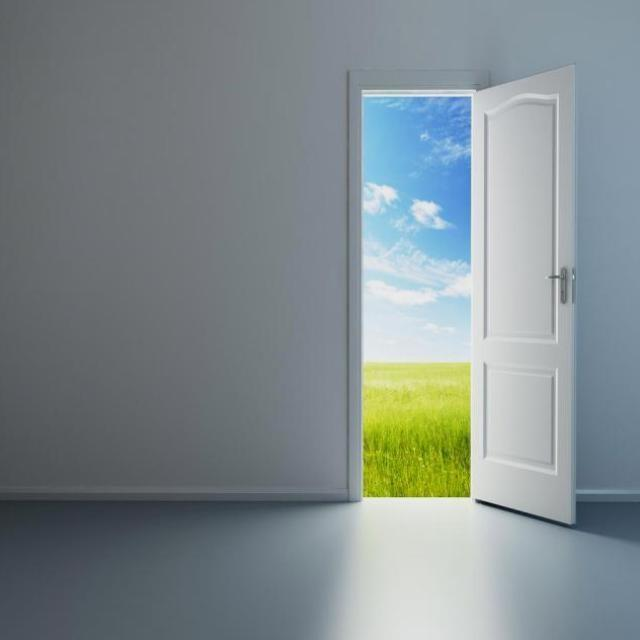door: (469, 63, 577, 526)
